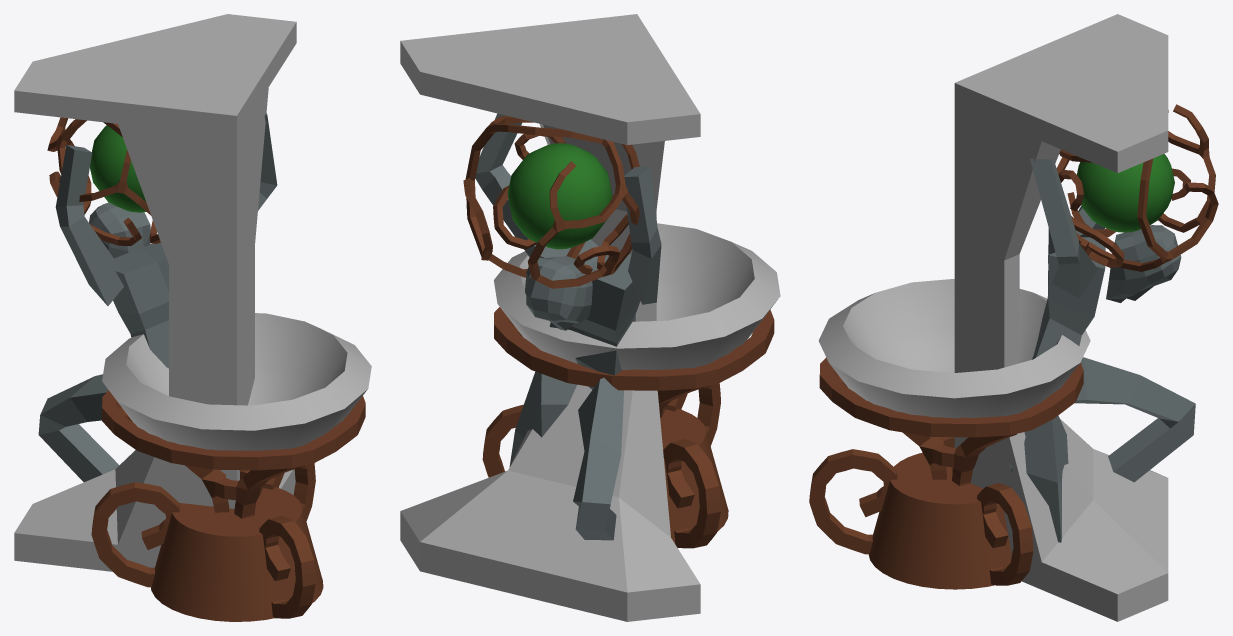
File: ancient_clutter.fbx
3 views of the same model, side by side, from view 1: azimuth 30°, elevation 25°; view 2: azimuth 150°, elevation 25°; view 3: azimuth 270°, elevation 25° (orthographic). The views are drawn at different scales.
Parts seen in each view (by area): view 1: Atlas, Basin, Handler, Connector; view 2: Atlas, Basin, Handler, Connector; view 3: Atlas, Basin, Handler, Connector.
Boxes of the visible parts, bbox=[...] form: Atlas: bbox=[14, 14, 296, 571]; Basin: bbox=[102, 313, 371, 450]; Handler: bbox=[91, 390, 365, 618]; Connector: bbox=[151, 487, 323, 621]; Atlas: bbox=[400, 14, 700, 621]; Basin: bbox=[494, 223, 780, 369]; Handler: bbox=[482, 307, 774, 548]; Connector: bbox=[660, 409, 728, 543]; Atlas: bbox=[954, 14, 1218, 621]; Basin: bbox=[818, 279, 1090, 418]; Handler: bbox=[809, 357, 1083, 585]; Connector: bbox=[868, 452, 1011, 589].
Bounding box in the file's own units: 221 × 352 × 278.
